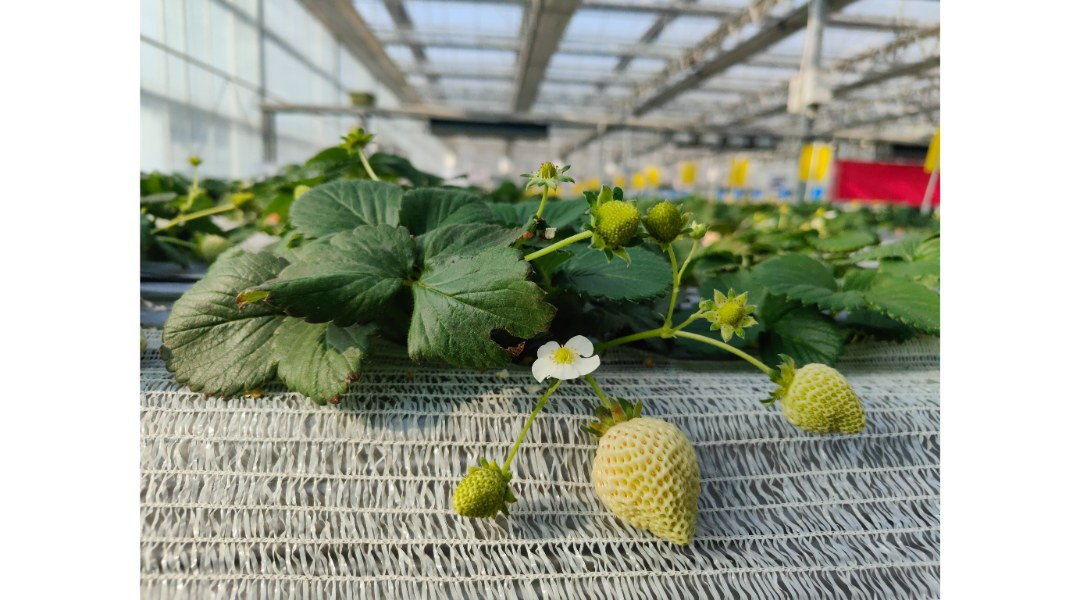berry: (581, 402, 710, 556), (752, 351, 887, 442), (572, 177, 649, 269), (454, 447, 524, 531), (688, 288, 761, 337), (515, 159, 577, 198), (641, 200, 692, 244)
flower: (528, 319, 608, 384)
strain: (505, 383, 559, 472), (699, 336, 780, 379), (586, 323, 657, 355), (520, 230, 590, 262), (667, 285, 680, 319)
